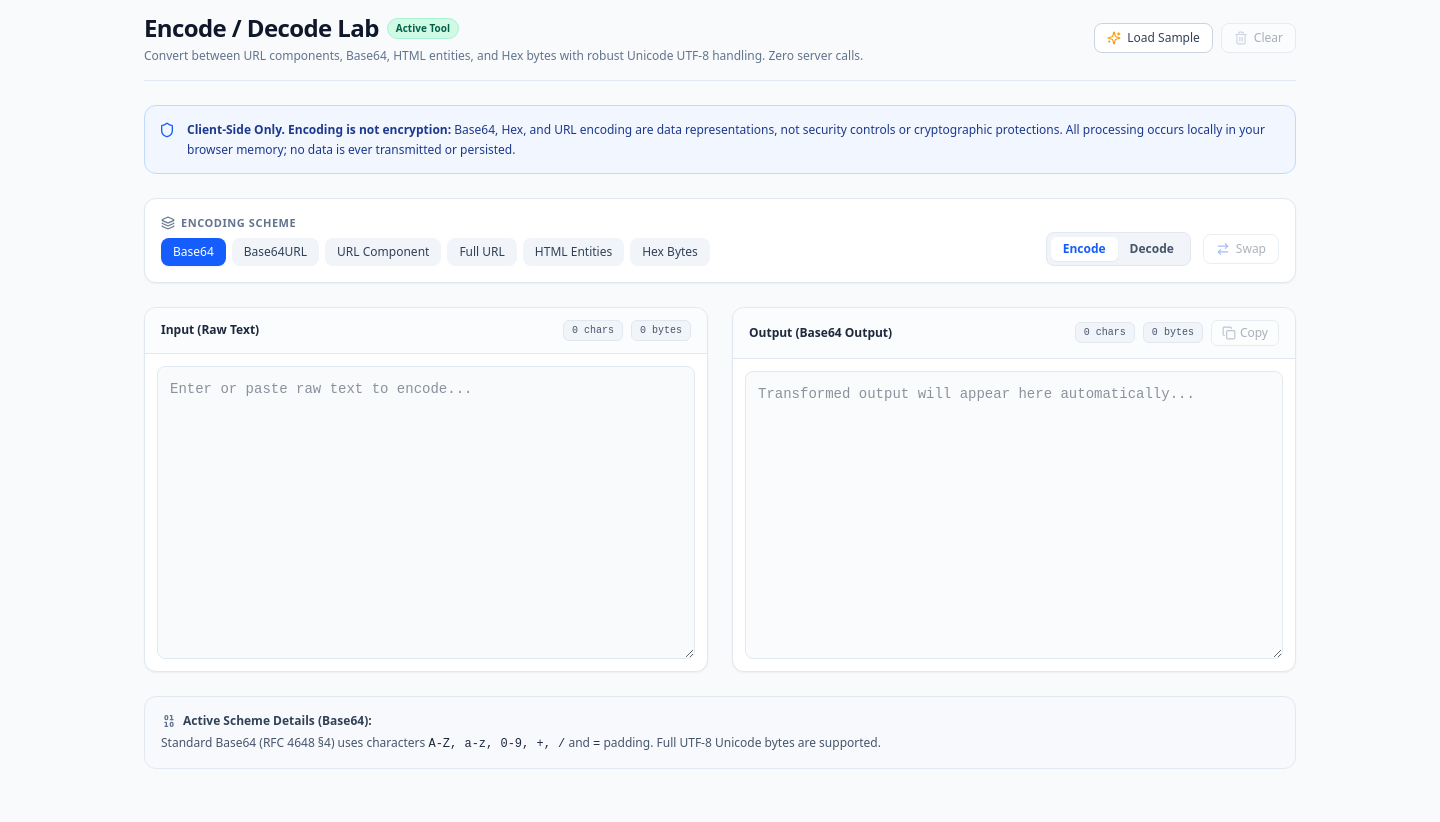
EncodeDecodeLab Component › swaps input and output while reversing transformation direction
Type "Hello DevLens" into the text box named "Input payload" at x=426, y=512, box [157,366,695,658]
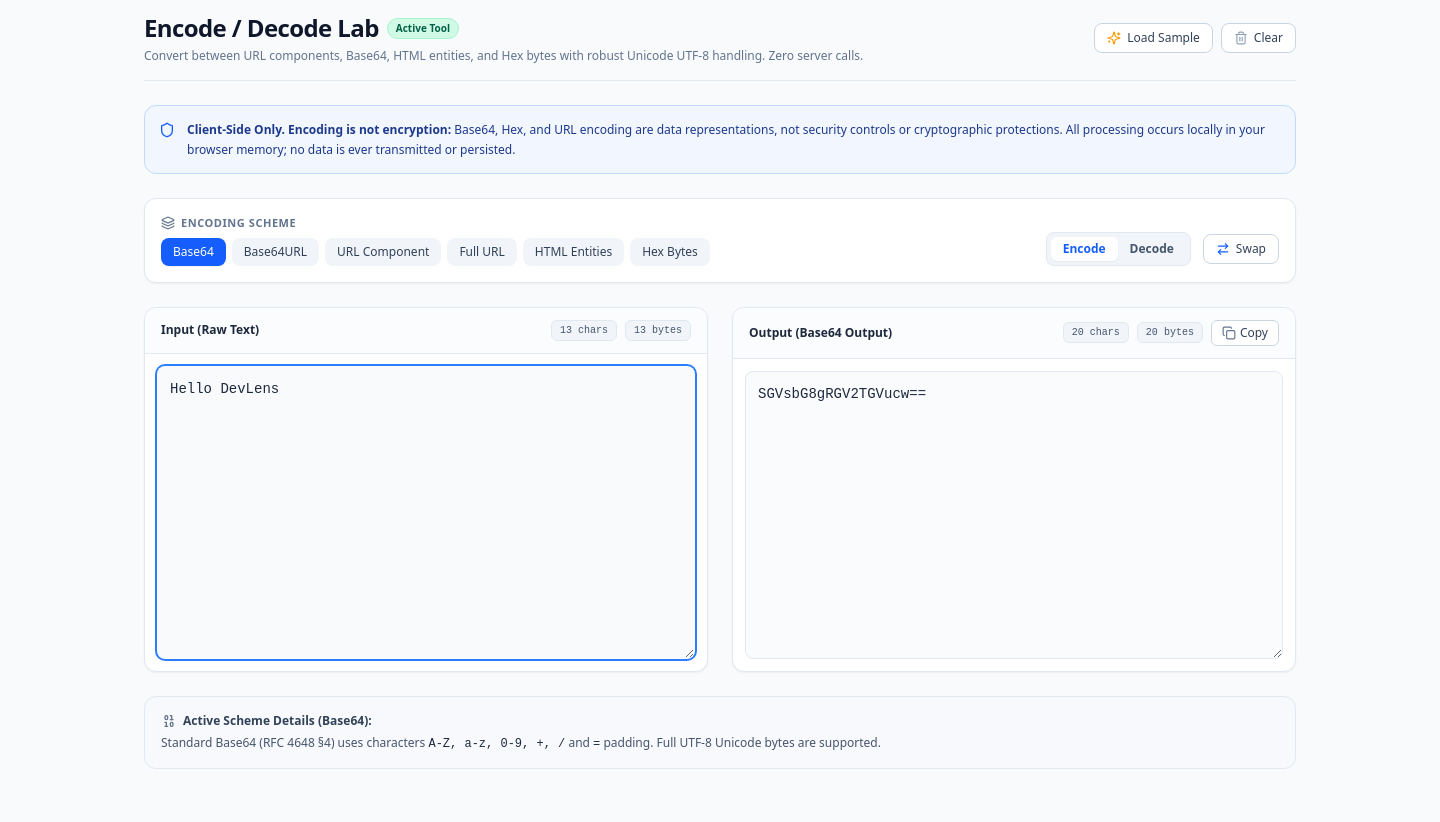
Check: the text box named "Transformed output" holds "SGVsbG8gRGV2TGVucw==", box [745,370,1283,658]
// Click Swap
Click the button "Swap" at x=1241, y=248, box [1203,234,1279,264]
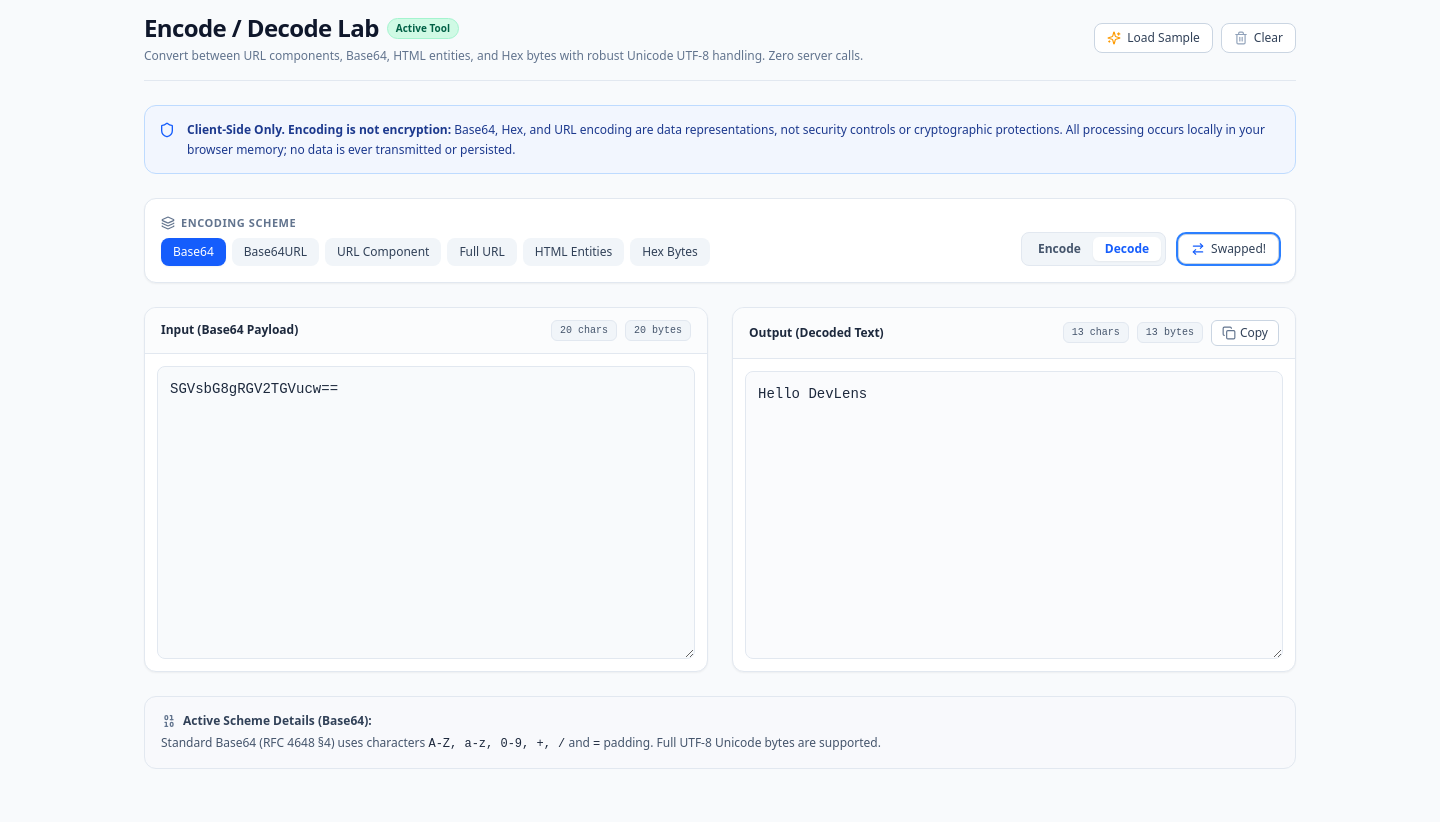
Check: the text box named "Input payload" holds "SGVsbG8gRGV2TGVucw==", box [157,366,695,658]
Check: the text box named "Transformed output" holds "Hello DevLens", box [745,370,1283,658]
